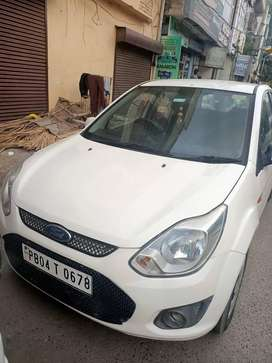PB04T0678: (23, 244, 92, 295)
